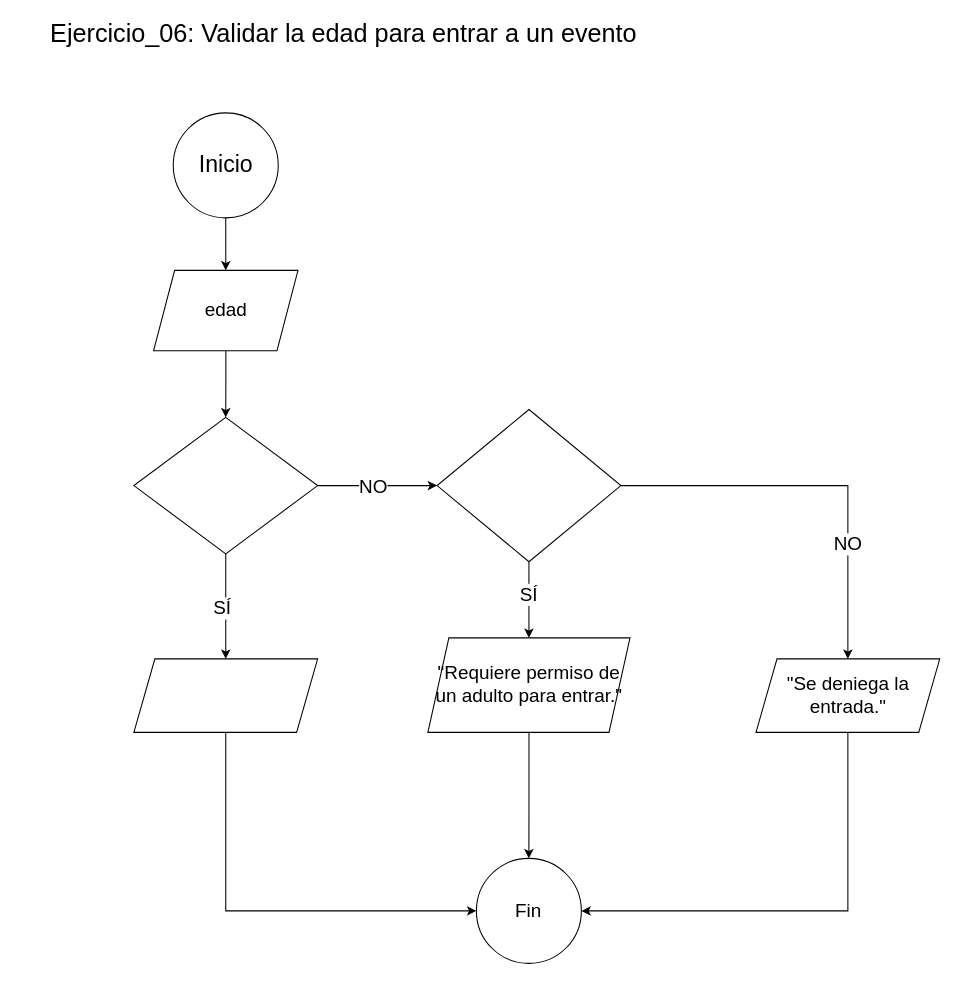
The diagram is 958 pixels wide and 982 high, and some of its shapes have lost their labels. The shapes that lost their labels are listed below. From the top down, each one's box as (x1, y1, x2, y2) in pixels, then its label:
(133, 416, 318, 554): ¿edad >= 18?
(436, 408, 621, 562): ¿edad >= 13? y ¿edad >=17?
(133, 658, 318, 732): "Se permite la entrada."
